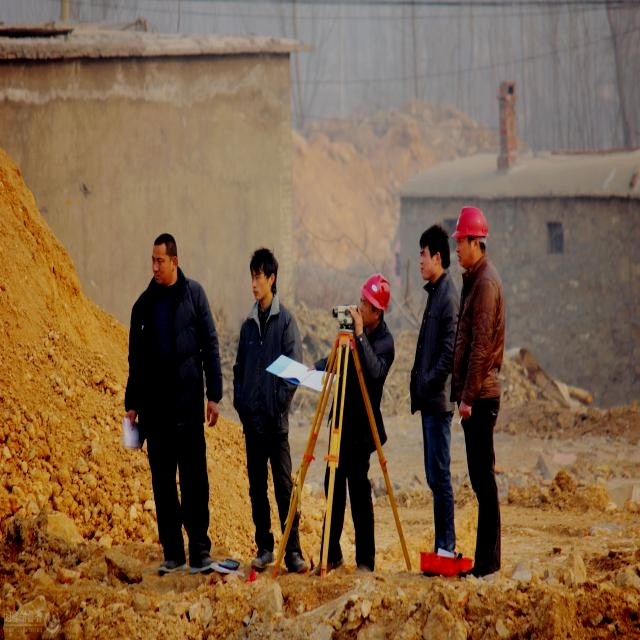Con_Casco: (454, 204, 488, 271), (358, 274, 389, 326)
Sin_Casco_Mascarrilla: (249, 246, 278, 306), (420, 222, 449, 277), (151, 234, 180, 285)
